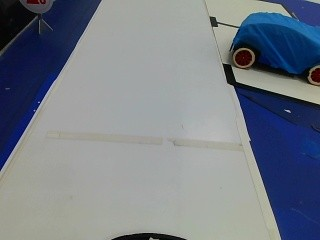car: (225, 13, 318, 81)
